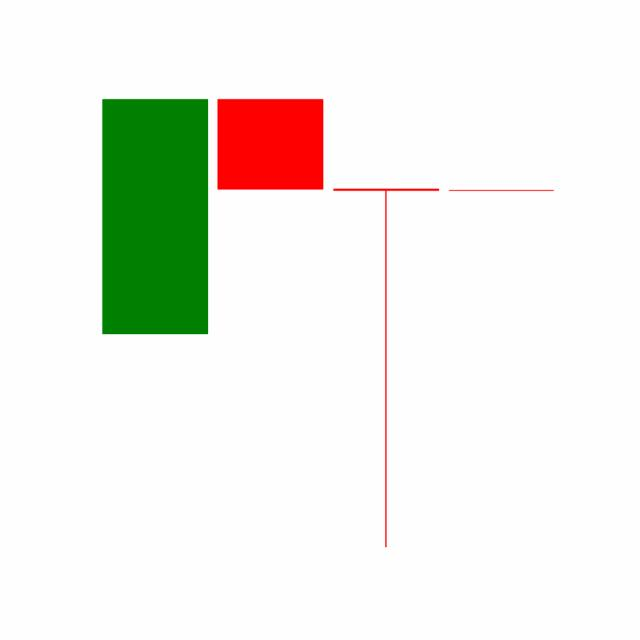Dragonfly Doji: (328, 184, 444, 551)
